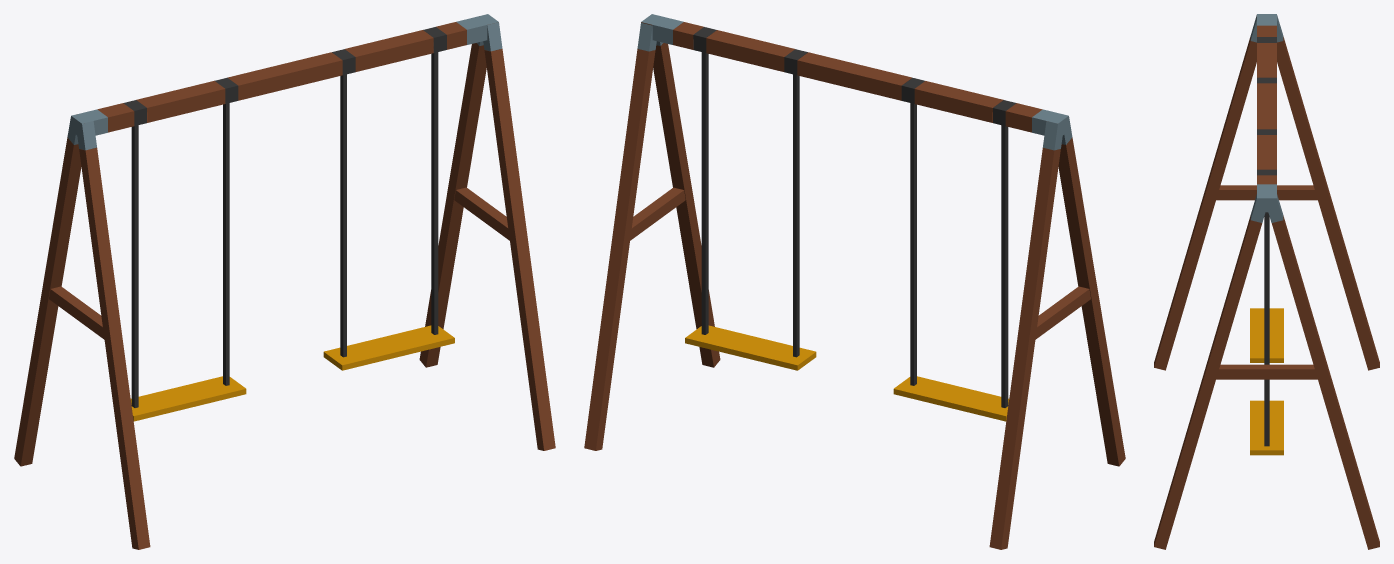
Rendered from Swing.glb.
3 renders of one model, left to right at view 1: azimuth 30°, elevation 25°; view 2: azimuth 150°, elevation 25°; view 3: azimuth 270°, elevation 25°, orthographic. The views are drawn at different scales.
Visible parts, largest first — view 1: Swing; view 2: Swing; view 3: Swing.
Boxes of the visible parts, x1,y1,x2,y2 form: Swing: [14, 14, 555, 549]; Swing: [584, 14, 1125, 549]; Swing: [1154, 14, 1379, 549].
Size of the model in its own units: 2.4 by 2.14 by 1.24.
